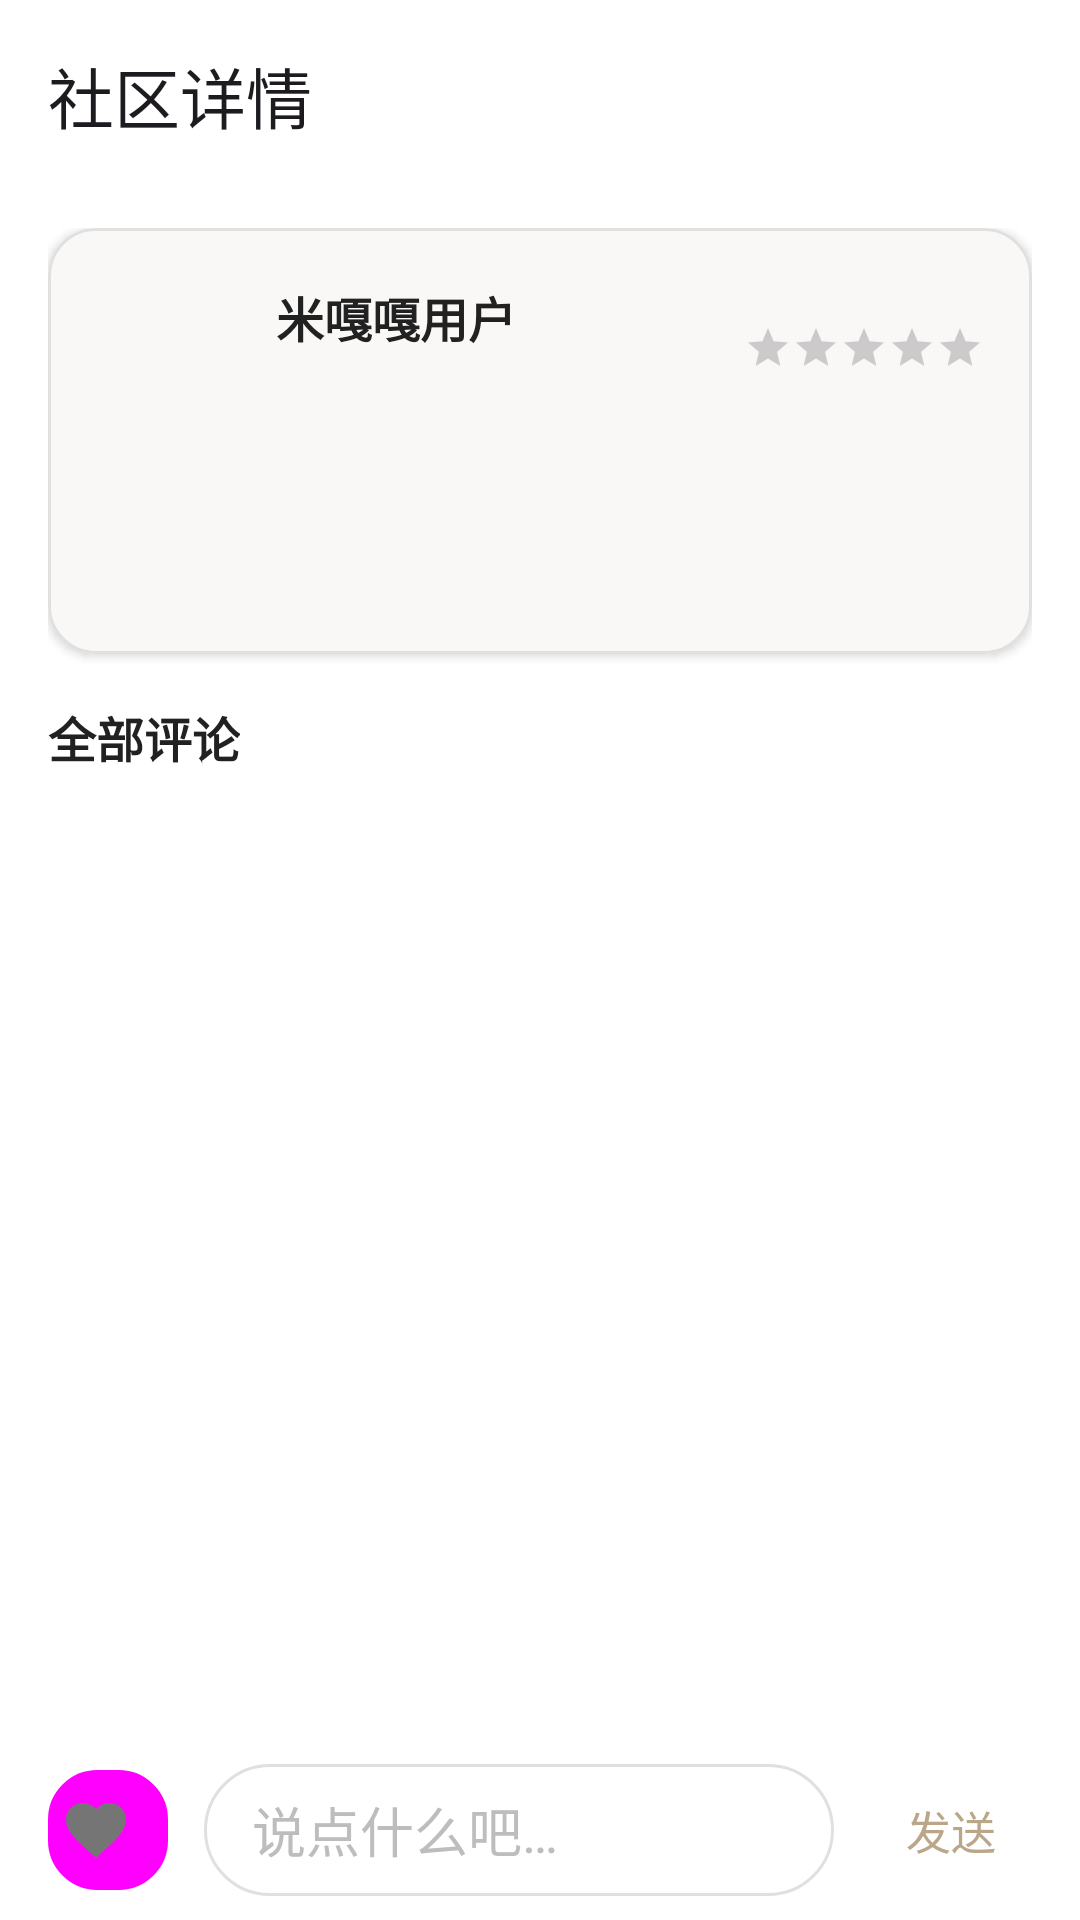

Named icons in this screenshot (1080px×1920px) and their bounding boxes, (x1, y1, x2, y2):
点赞: (48, 1770, 168, 1890)
